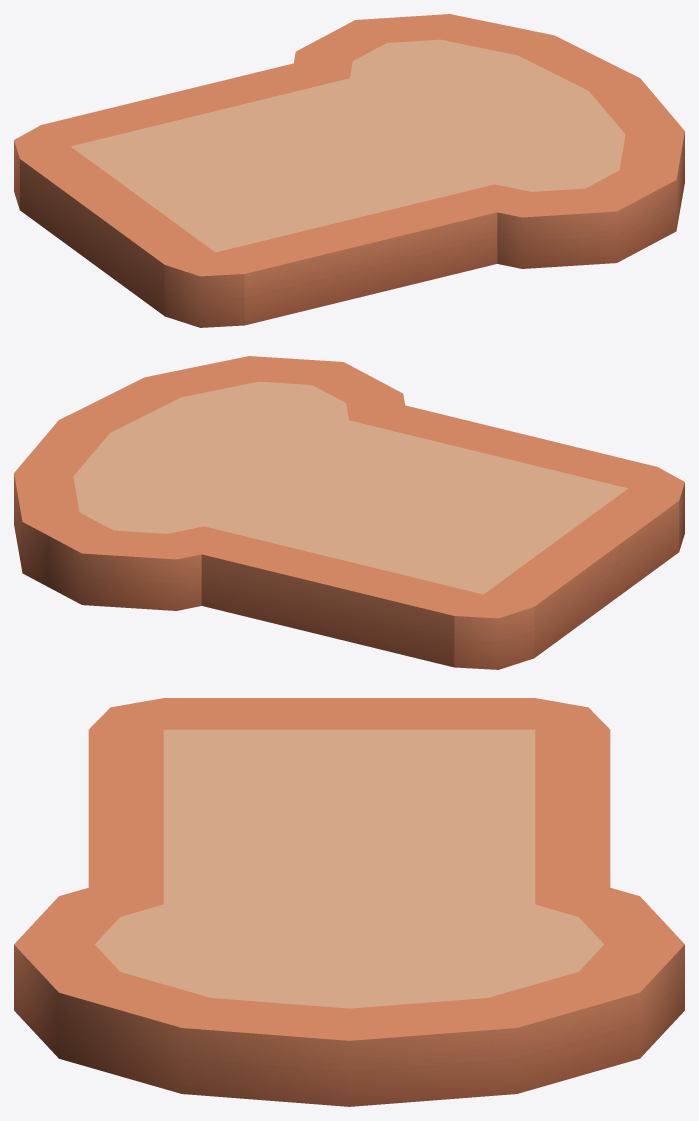
3 renders of one model, top to bottom at view 1: azimuth 30°, elevation 25°; view 2: azimuth 150°, elevation 25°; view 3: azimuth 270°, elevation 25°, orthographic. The views are drawn at different scales.
Parts seen in each view (by area): view 1: bread; view 2: bread; view 3: bread.
Boxes of the visible parts, x1,y1,x2,y2 form: bread: (14,14,684,327); bread: (14,356,684,669); bread: (14,698,684,1106).
Bounding box in the file's own units: 0.1855 × 0.0167 × 0.1535.
1 material, 1 textured.
